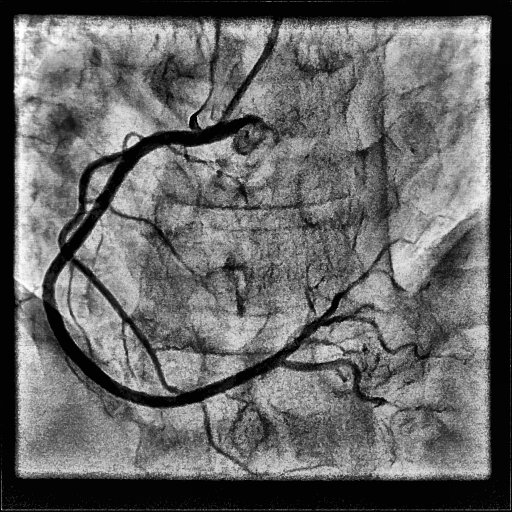pborca: (277, 244, 389, 361)
pda: (282, 359, 385, 407)
rca: (42, 124, 283, 408)
